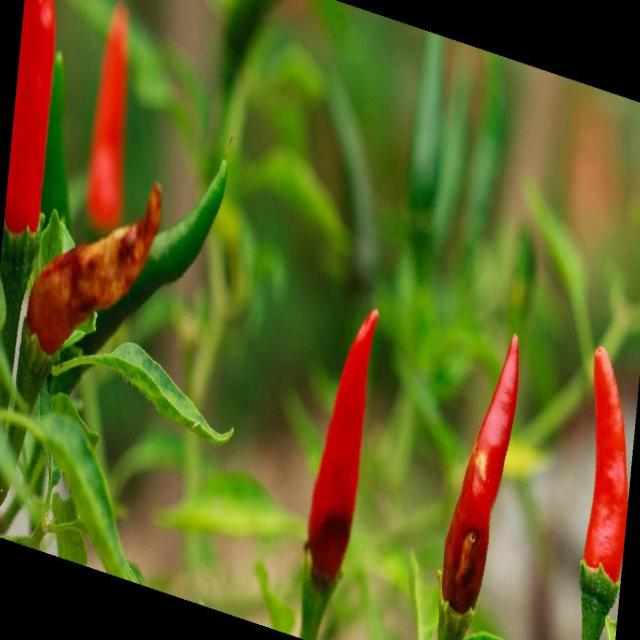Moko: (22, 170, 171, 372), (300, 509, 378, 594), (436, 487, 486, 609)
